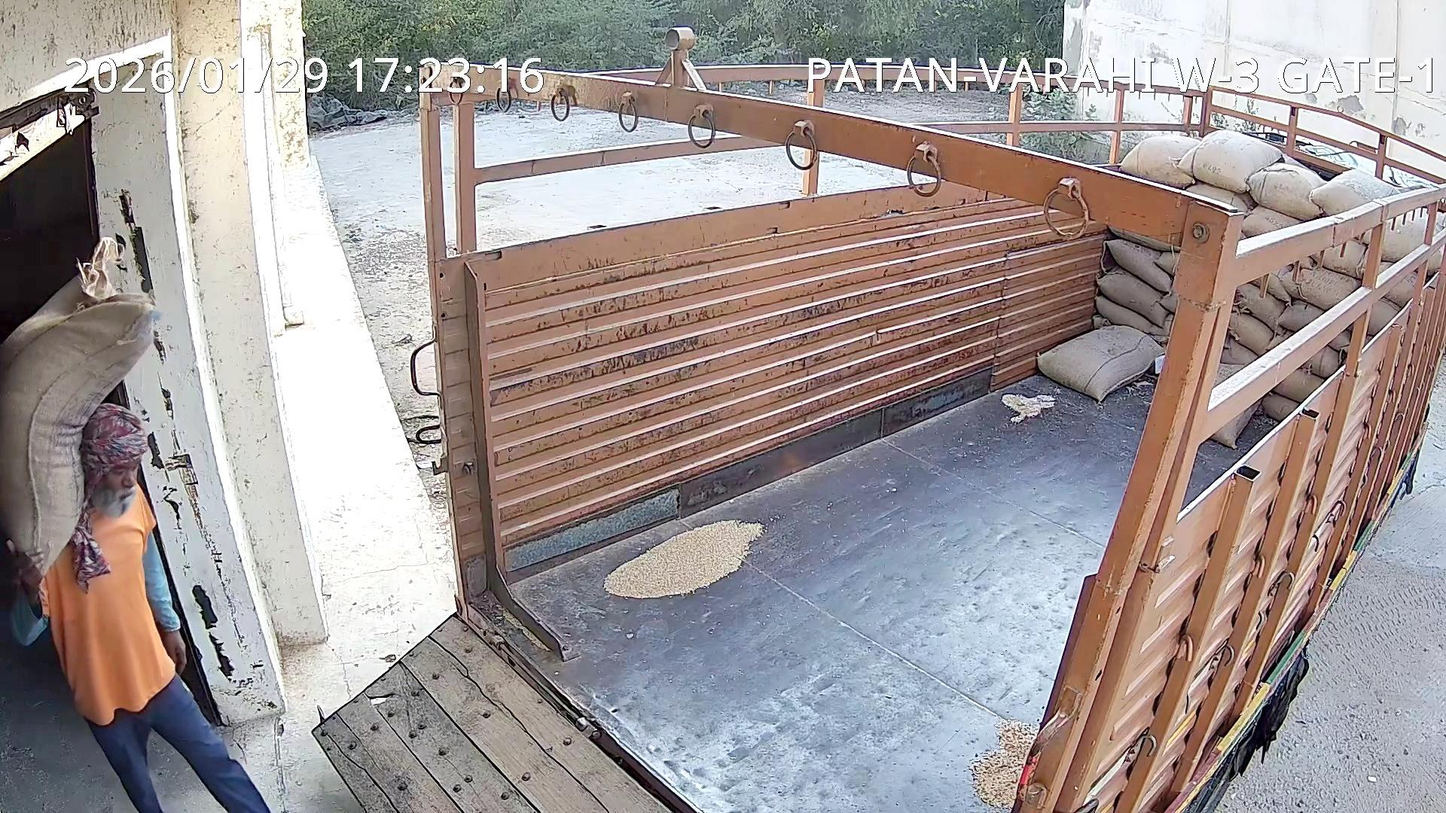Sack: (0, 237, 157, 568)
